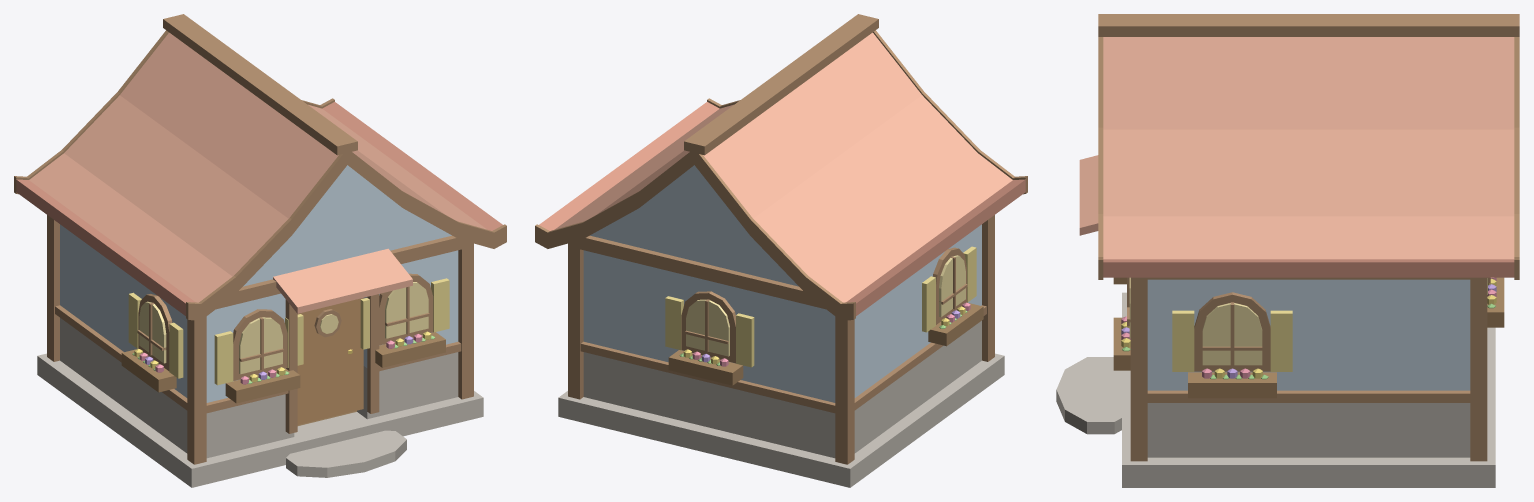
File: cottage_sky.glb
The picture shows the model from 3 angles, left to right: view 1: azimuth 30°, elevation 25°; view 2: azimuth 150°, elevation 25°; view 3: azimuth 270°, elevation 25°; orthographic projection. The views are drawn at different scales.
Visible parts, largest first — view 1: Player; view 2: Player; view 3: Player.
Part boxes in pixels (x1,y1,x2,y2): Player: (14, 14, 506, 487); Player: (535, 14, 1027, 487); Player: (1056, 14, 1519, 487).
Bounding box in the file's own units: 5.24 × 4.96 × 5.45.
